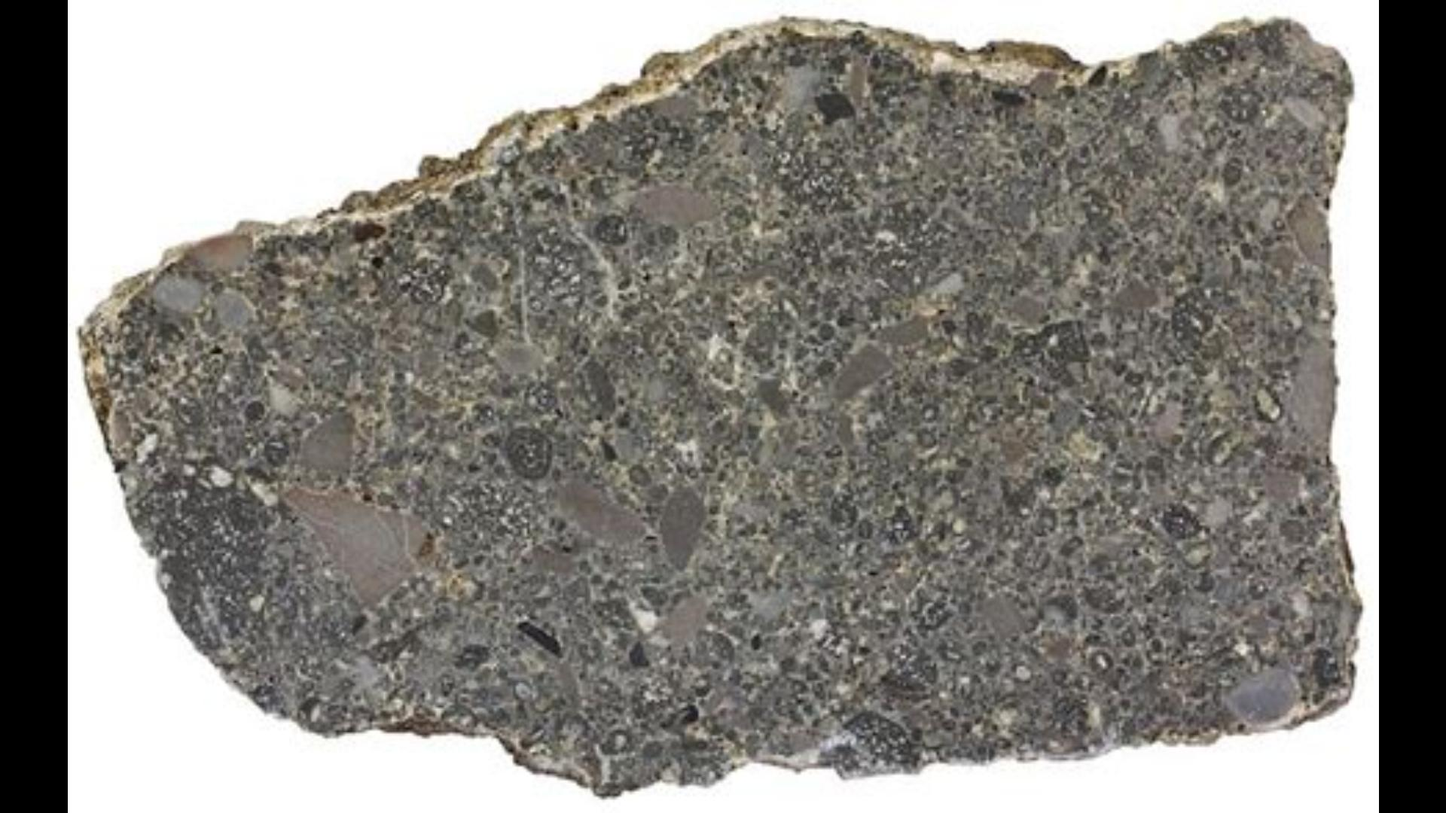rock: (84, 19, 1356, 791)
